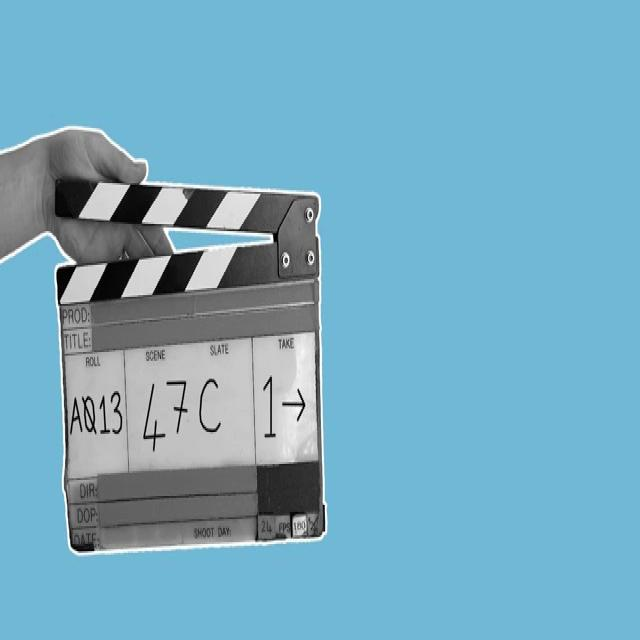Clapperboard: (54, 173, 334, 558)
